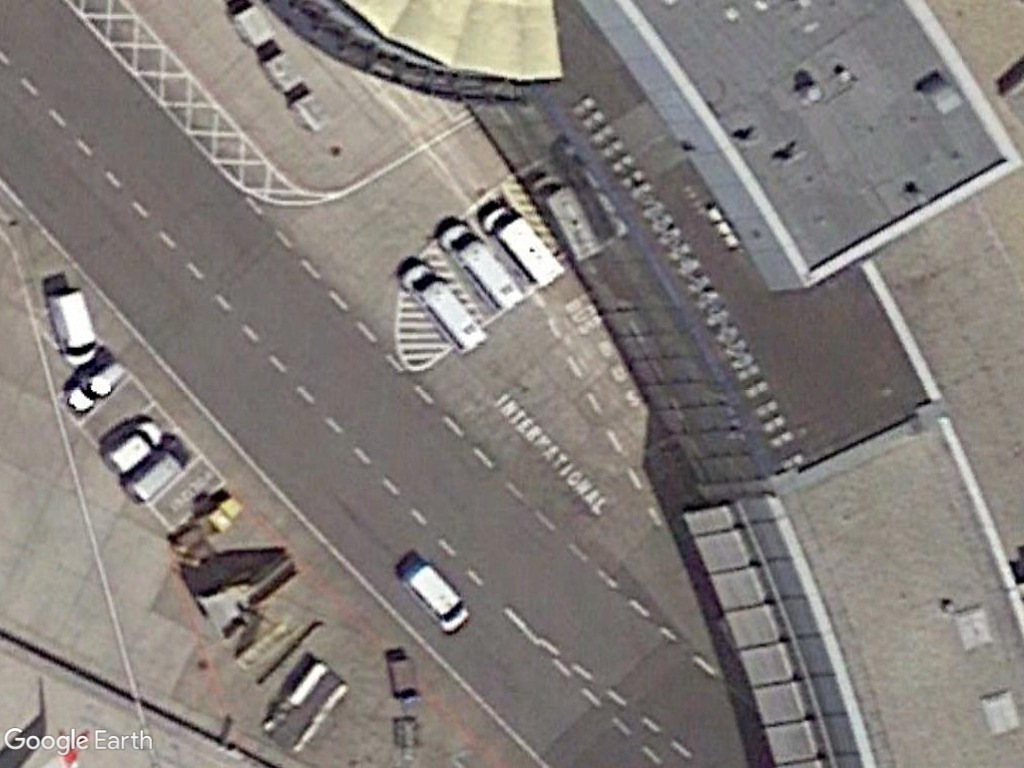van: (396, 259, 488, 358), (436, 221, 526, 314), (481, 198, 568, 289), (400, 557, 471, 635), (125, 435, 195, 505), (47, 285, 100, 367), (103, 419, 166, 476)
